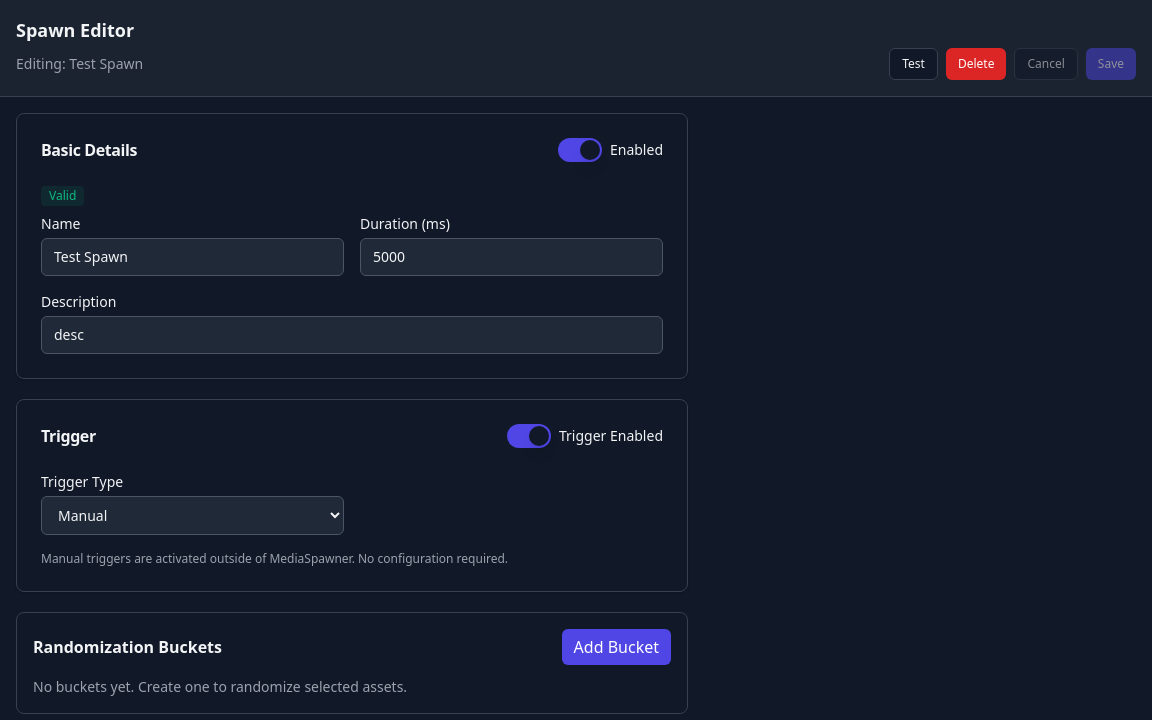
SpawnEditorWorkspace › Cancel button disabled state › is enabled when isDirty is true (local edits made)
Expected: the text "Editing: Test Spawn" is shown, [16, 54, 143, 74]
Note: Make a local edit to set isDirty to true
Step 1. Replace the text in the field labelled "Name" with "Updated Name" → (192, 257), box [41, 238, 344, 276]
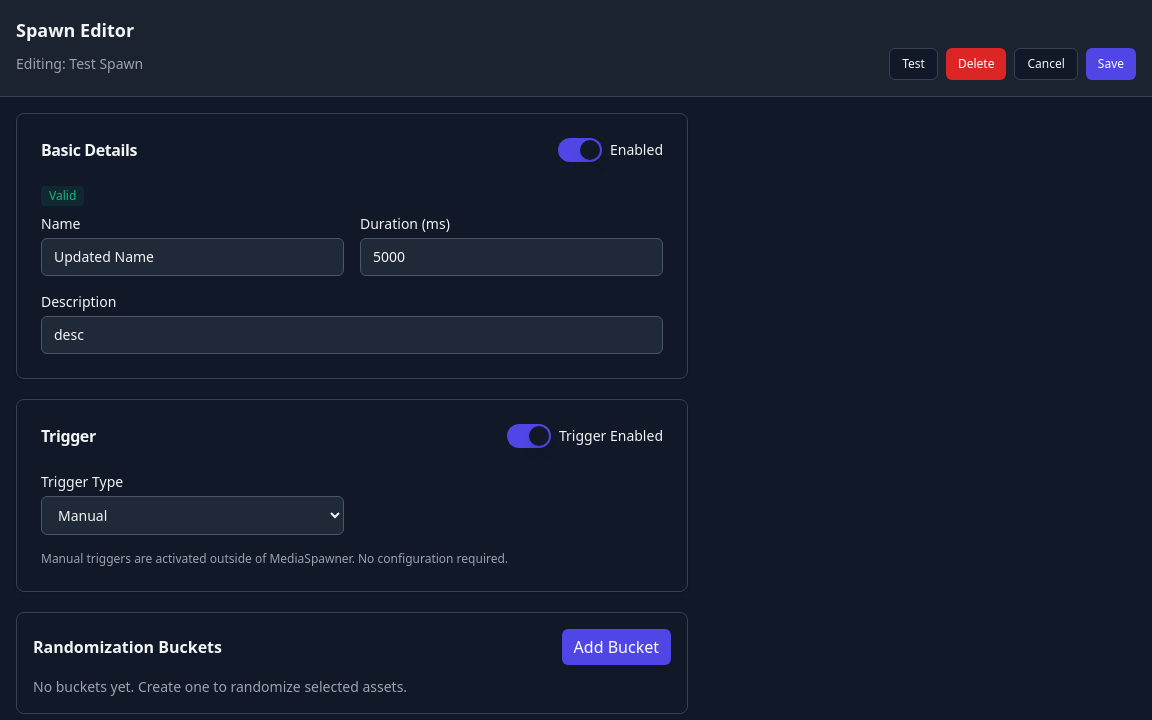
Expected: the button with aria-label "Cancel edits" is enabled, [1014, 48, 1078, 80]
